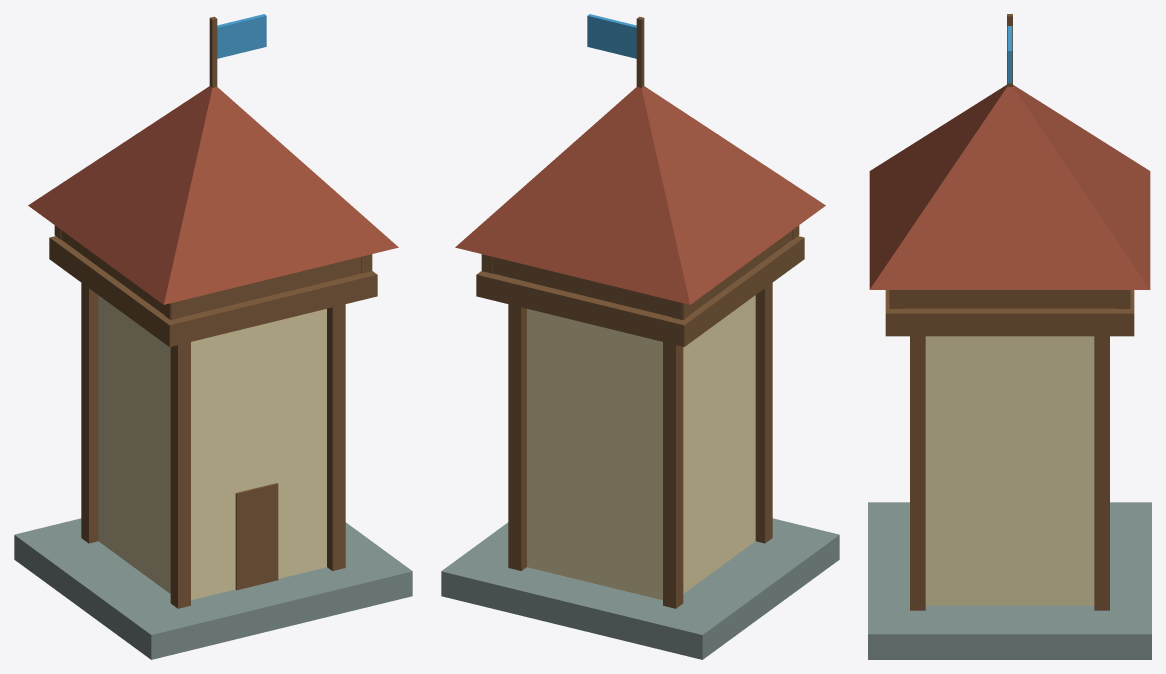
File: tower.glb
3 renders of one model, left to right at view 1: azimuth 30°, elevation 25°; view 2: azimuth 150°, elevation 25°; view 3: azimuth 270°, elevation 25°, orthographic. The views are drawn at different scales.
Parts seen in each view (by area): view 1: Tower walls, Tower roof, Foundation, Lookout deck, Tower timber, Tower timber.002, Tower timber.001, Door, Lookout rail, Player flag, Lookout rail.002, Flag pole; view 2: Tower walls, Tower roof, Foundation, Lookout deck, Tower timber.001, Tower timber.003, Tower timber, Lookout rail.001, Player flag, Lookout rail.002, Flag pole; view 3: Tower roof, Tower walls, Foundation, Lookout deck, Tower timber.002, Tower timber.003, Lookout rail.003.
Boxes of the visible parts, x1=… form: Tower walls: x1=98, y1=295, x2=326, y2=600; Tower roof: x1=28, y1=86, x2=398, y2=304; Foundation: x1=14, y1=518, x2=412, y2=659; Lookout deck: x1=49, y1=236, x2=377, y2=346; Tower timber: x1=170, y1=342, x2=190, y2=608; Tower timber.002: x1=327, y1=304, x2=345, y2=570; Tower timber.001: x1=81, y1=283, x2=98, y2=543; Door: x1=235, y1=483, x2=278, y2=590; Lookout rail: x1=164, y1=257, x2=361, y2=319; Player flag: x1=217, y1=14, x2=266, y2=58; Lookout rail.002: x1=61, y1=230, x2=181, y2=319; Flag pole: x1=209, y1=16, x2=217, y2=87; Tower walls: x1=527, y1=295, x2=755, y2=600; Tower roof: x1=455, y1=86, x2=825, y2=304; Foundation: x1=441, y1=518, x2=839, y2=659; Lookout deck: x1=476, y1=236, x2=804, y2=346; Tower timber.001: x1=663, y1=342, x2=683, y2=608; Tower timber.003: x1=508, y1=304, x2=526, y2=570; Tower timber: x1=755, y1=283, x2=772, y2=543; Lookout rail.001: x1=492, y1=257, x2=689, y2=319; Player flag: x1=587, y1=14, x2=636, y2=58; Lookout rail.002: x1=672, y1=230, x2=792, y2=319; Flag pole: x1=636, y1=16, x2=644, y2=87; Tower roof: x1=869, y1=85, x2=1150, y2=289; Tower walls: x1=925, y1=336, x2=1094, y2=605; Foundation: x1=868, y1=502, x2=1151, y2=659; Lookout deck: x1=885, y1=290, x2=1134, y2=336; Tower timber.002: x1=910, y1=336, x2=925, y2=610; Tower timber.003: x1=1094, y1=336, x2=1109, y2=610; Lookout rail.003: x1=889, y1=290, x2=1130, y2=308.
Size of the model in its own units: 4.4 by 9 by 4.
